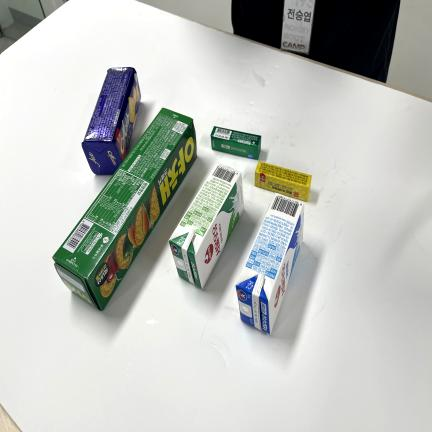cracker_ace: (81, 67, 142, 175)
cracker_vege: (53, 107, 198, 314)
gum_green: (211, 126, 261, 159)
gum_yellow: (255, 161, 311, 201)
milk_blue: (272, 196, 299, 217)
milk_green: (170, 162, 245, 289)
